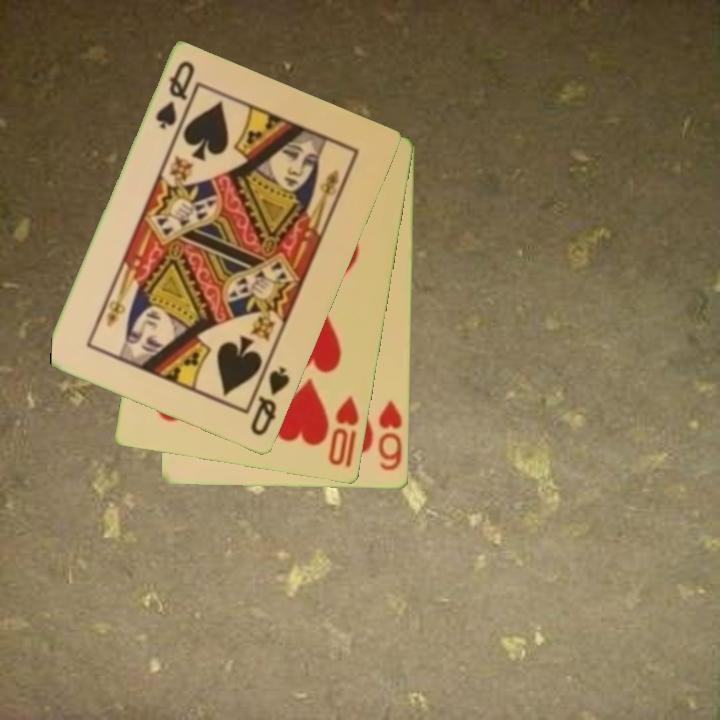10h: (325, 393, 362, 472)
6h: (375, 398, 406, 474)
Qs: (247, 363, 293, 440), (152, 58, 198, 133)
